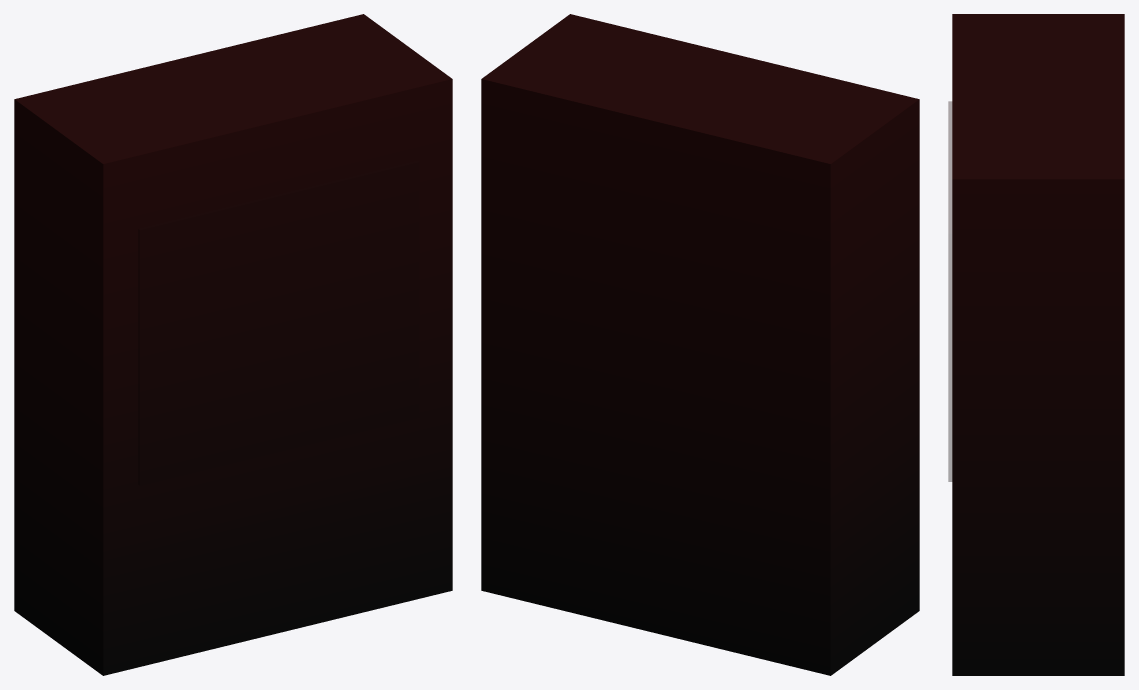
File: hop_cong_to.mid.glb
The picture shows the model from 3 angles, left to right: view 1: azimuth 30°, elevation 25°; view 2: azimuth 150°, elevation 25°; view 3: azimuth 270°, elevation 25°; orthographic projection. The views are drawn at different scales.
Parts seen in each view (by area): view 1: hop_cong_to; view 2: hop_cong_to; view 3: hop_cong_to.
Part boxes in pixels (bbox=[...]): hop_cong_to: bbox=[14, 14, 452, 675]; hop_cong_to: bbox=[481, 14, 919, 675]; hop_cong_to: bbox=[948, 14, 1124, 675].
Size of the model in its own units: 0.5 by 0.7 by 0.225.
